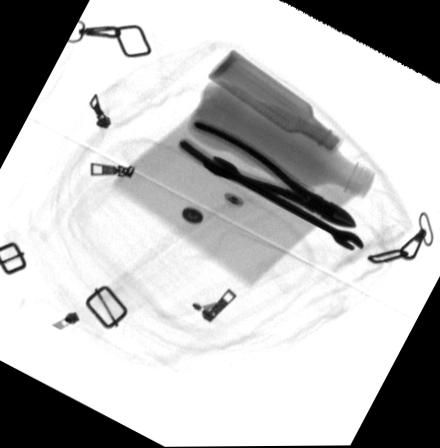Pliers: (178, 122, 357, 229)
Wrench: (201, 157, 363, 255)
